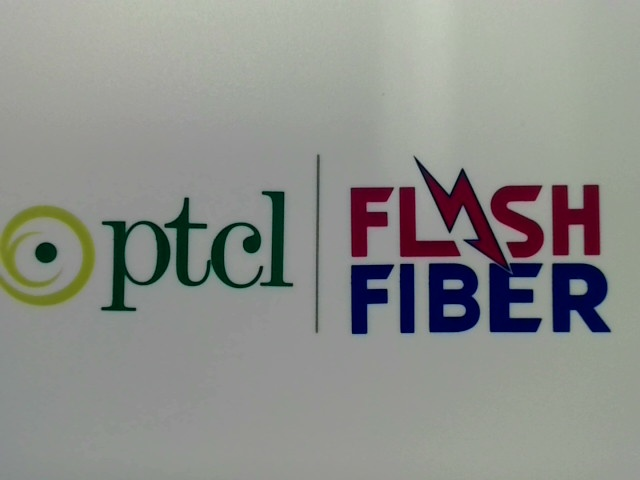BF_PTCL: (0, 178, 301, 315)
